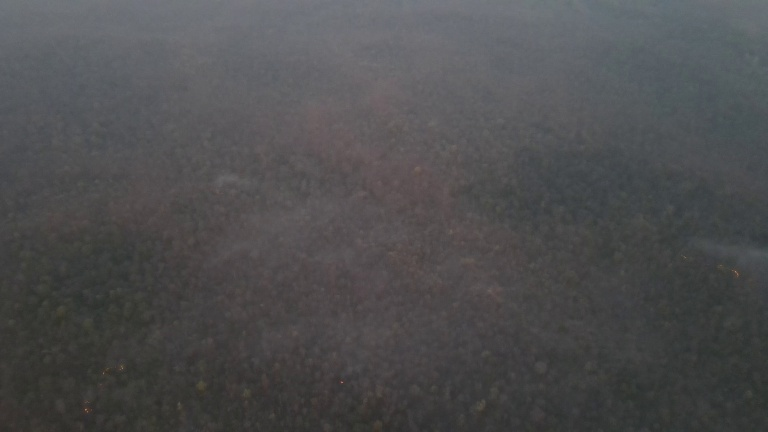fire: (80, 361, 133, 415), (713, 261, 744, 282), (336, 379, 348, 385)
smoke: (196, 163, 264, 207), (688, 232, 766, 268)
